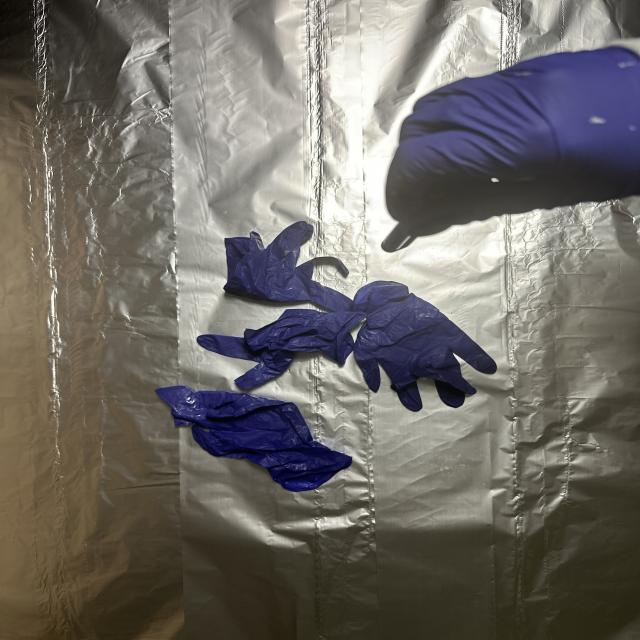gloves_contaminated: (386, 40, 640, 235)
